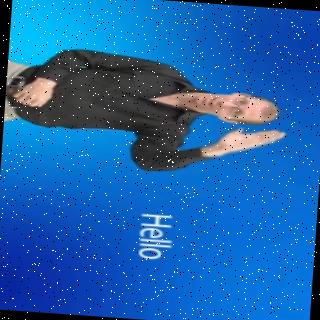Hello: (1, 43, 296, 182)
